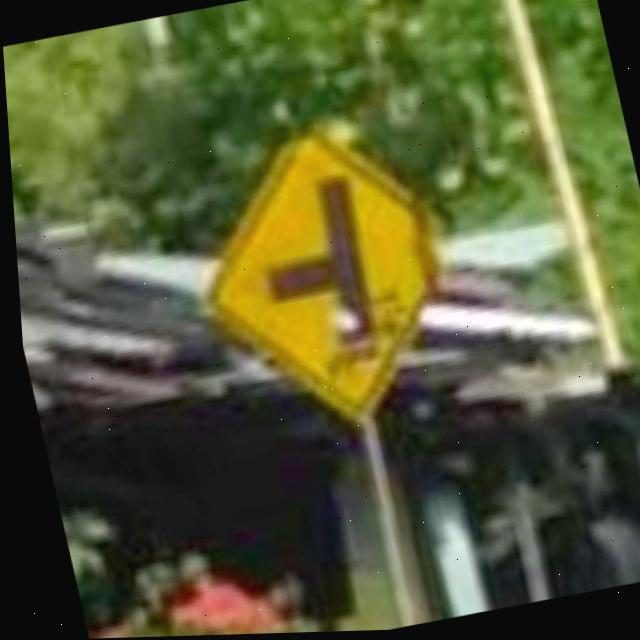Persimpangan 3 Sisi Kiri: (154, 109, 473, 447)
